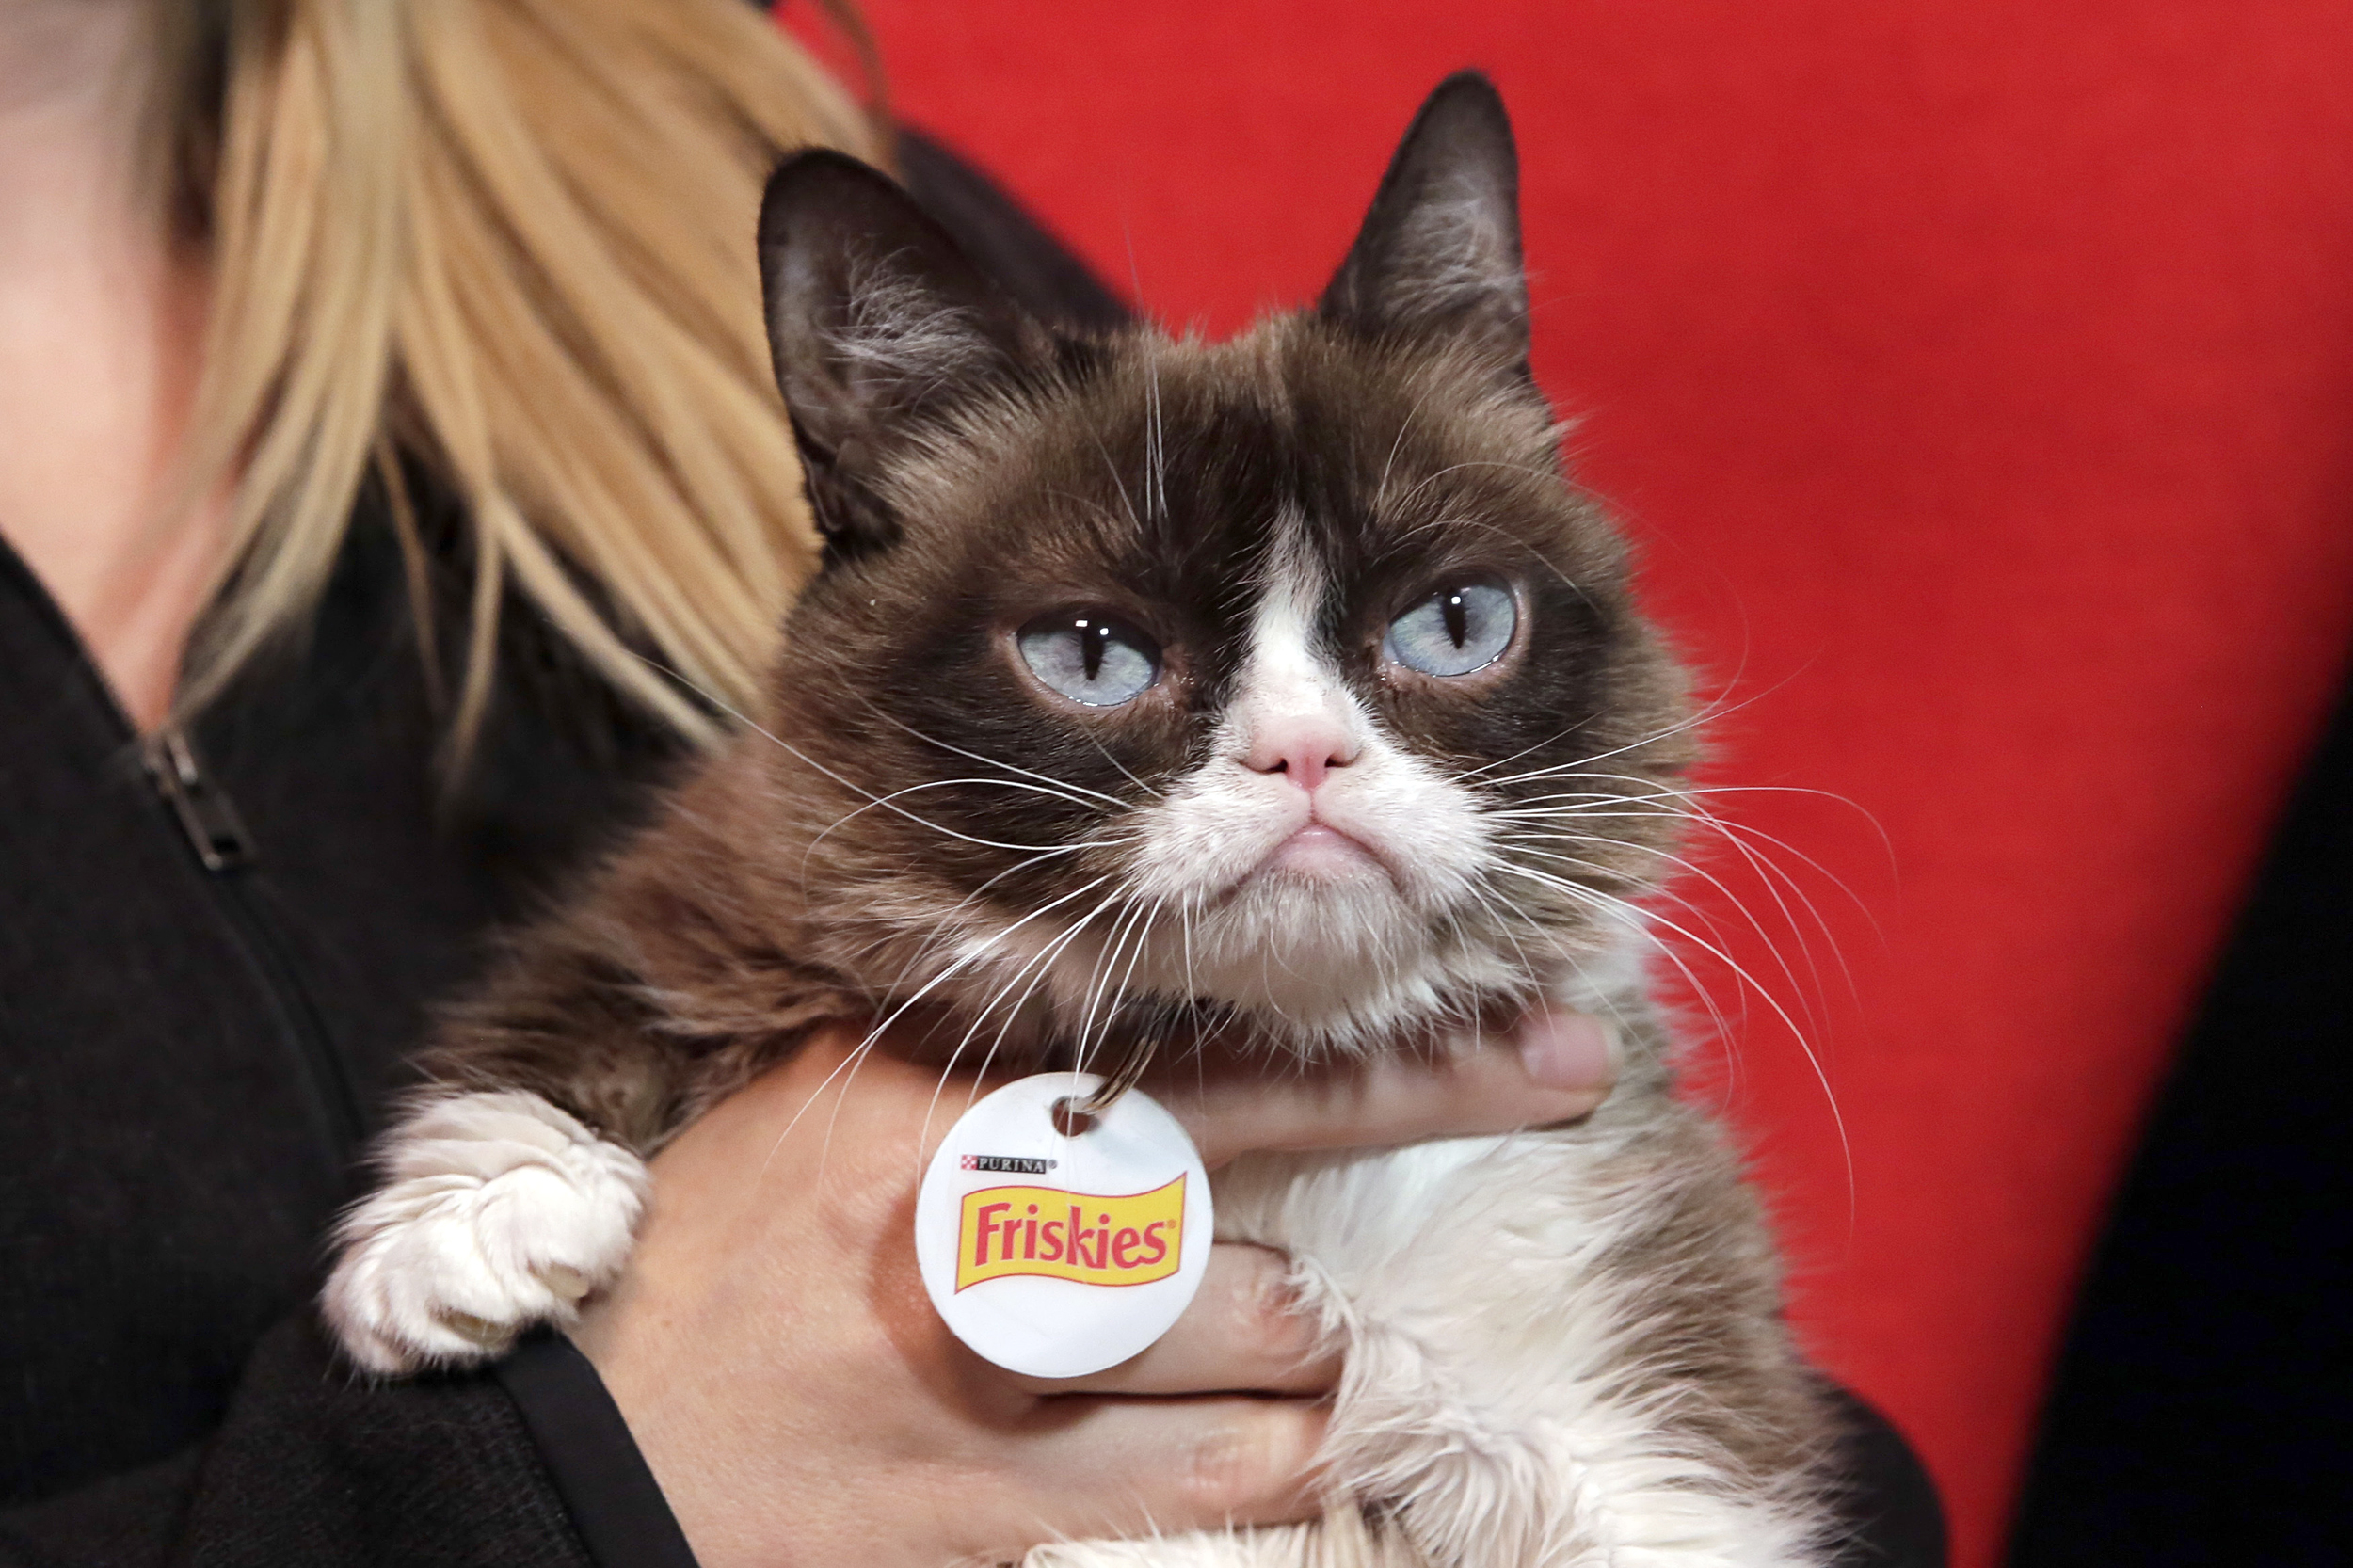cat: (374, 103, 1924, 1496)
